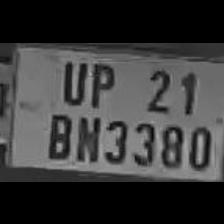0: (185, 120, 213, 170)
1: (174, 64, 200, 114)
2: (141, 64, 173, 112)
3: (100, 113, 128, 164), (129, 116, 157, 166)
8: (157, 119, 183, 167)
B: (42, 108, 72, 160)
N: (72, 110, 102, 162)
P: (83, 56, 117, 106)
U: (55, 55, 87, 103)
